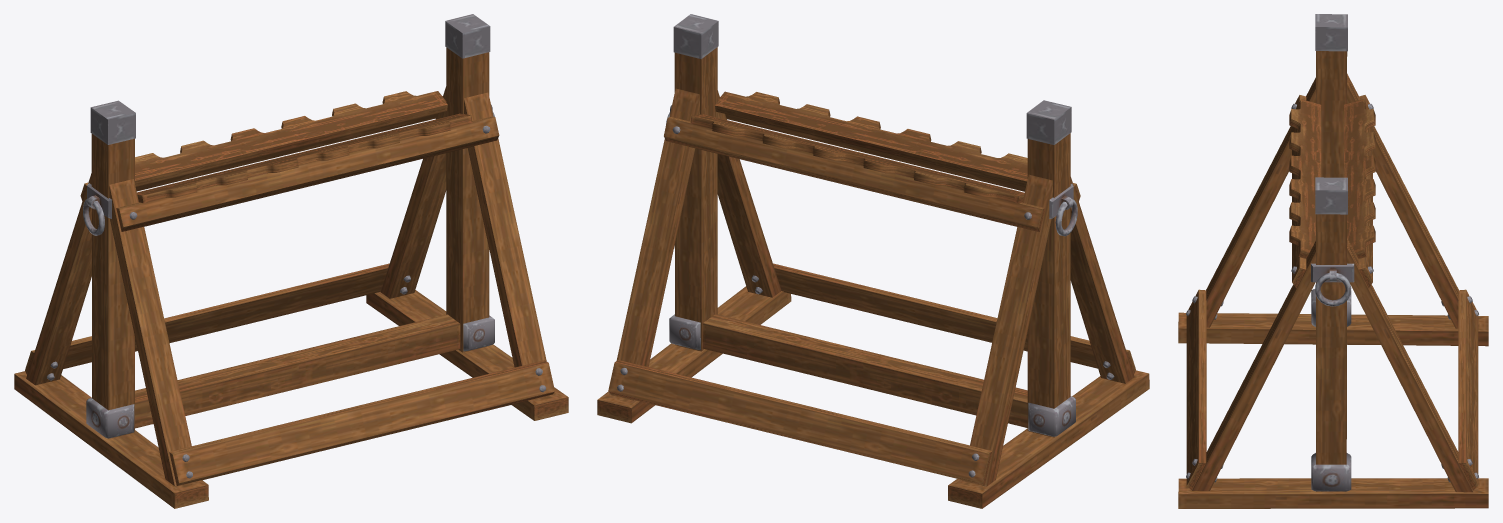
Rendered from weapon_stand-BMlgeh-k.glb.
The picture shows the model from 3 angles, left to right: view 1: azimuth 30°, elevation 25°; view 2: azimuth 150°, elevation 25°; view 3: azimuth 270°, elevation 25°; orthographic projection. The views are drawn at different scales.
Parts seen in each view (by area): view 1: WeaponStand; view 2: WeaponStand; view 3: WeaponStand.
Boxes of the visible parts, x1,y1,x2,y2 form: WeaponStand: [14, 14, 568, 508]; WeaponStand: [597, 14, 1149, 508]; WeaponStand: [1178, 14, 1488, 508].
Bounding box in the file's own units: 2.36 × 1.89 × 1.67.
Materials: 2 (2 with a texture image).
